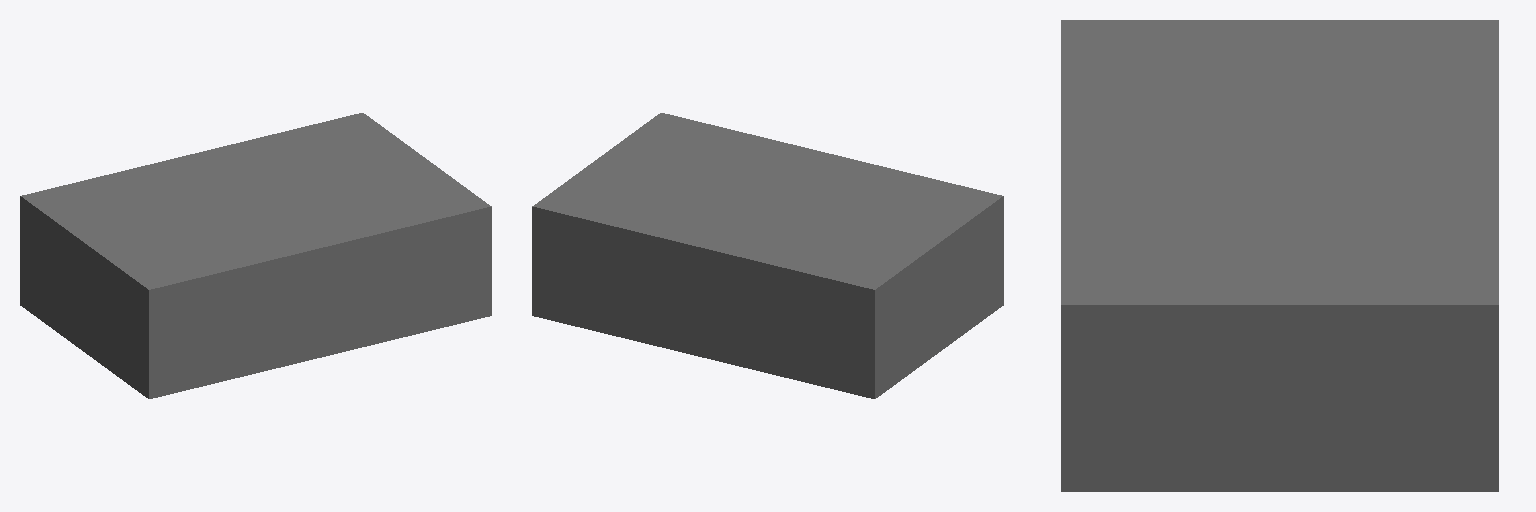
URDF robot description (ssc):
<?xml version="1.0"?>
<robot name="ssc">
  <!-- 차량의 주요 바디를 나타내는 base_link 정의 -->
  <link name="base_link">
    <visual>
      <origin xyz="0 0 0.25" rpy="0 0 0"/> <!-- 높이의 절반을 Z축 위치로 설정하여 지면 위에 위치하도록 함 -->
      <geometry>
        <box size="1.8 1.17 0.55"/> <!-- 길이 x 너비 x 높이 -->
      </geometry>
      <material name="gray">
        <color rgba="0.5 0.5 0.5 1"/>
      </material>
    </visual>
    <collision>
      <origin xyz="0 0 0.25" rpy="0 0 0"/>
      <geometry>
        <box size="1.8 1.17 0.55"/> <!-- 길이 x 너비 x 높이 -->
      </geometry>
    </collision>
  </link>

  <!-- Velodyne 센서 링크 정의 -->
  <link name="velodyne">
    <inertial>
      <mass value="0.001"/>
      <inertia ixx="0.0001" ixy="0" ixz="0" iyy="0.0001" iyz="0" izz="0.0001"/>
    </inertial>
  </link>

  <!-- Velodyne 센서 조인트 정의 -->
  <joint name="velodyne_joint" type="fixed">
    <parent link="base_link"/>
    <child link="velodyne"/>
    <origin xyz="0 0 1" rpy="0 0 0"/>
  </joint>

  <!-- 앞바퀴 링크 정의 -->
  <link name="front_wheel">
    <visual>
      <origin xyz="0 0 0" rpy="0 0 0"/>
      <geometry>
        <cylinder radius="0.2" length="0.05"/> <!-- 반지름 x 길이 -->
      </geometry>
      <material name="black">
        <color rgba="0 0 0 1"/>
      </material>
    </visual>
    <collision>
      <origin xyz="0 0 0" rpy="0 0 0"/>
      <geometry>
        <cylinder radius="0.2" length="0.05"/> <!-- 반지름 x 길이 -->
      </geometry>
    </collision>
  </link>

  <!-- 앞바퀴 조인트 정의 -->
  <joint name="front_wheel_joint" type="fixed">
    <parent link="base_link"/>
    <child link="front_wheel"/>
    <origin xyz="0.5 0 0" rpy="0 0 0"/> <!-- base_link로부터 50cm 앞에 위치 -->
  </joint>

</robot>

--- Render facts (derived) ---
The picture shows the robot from 3 angles, left to right: view 1: azimuth 30°, elevation 25°; view 2: azimuth 150°, elevation 25°; view 3: azimuth 270°, elevation 25°; orthographic projection.
Model ssc with 3 links and 2 joints (2 fixed), rooted at base_link, posed all joints at 0.
Links seen in each view (by area): view 1: base_link; view 2: base_link; view 3: base_link.
Link boxes in pixels (bbox=[...]): base_link: bbox=[20, 113, 491, 398]; base_link: bbox=[532, 113, 1003, 398]; base_link: bbox=[1061, 20, 1498, 491].
Size in the robot's own frame: 1.8 by 1.17 by 0.55 metres.
Geometry: primitives only (box / cylinder / sphere), no mesh files.
